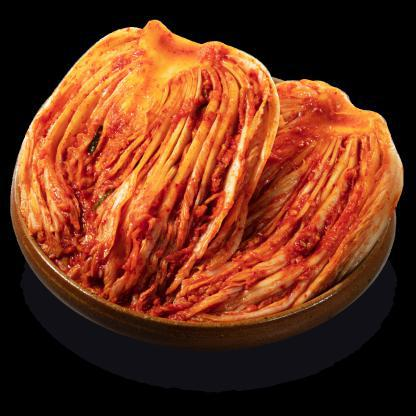kimchi: (16, 15, 288, 306), (154, 68, 410, 332)
